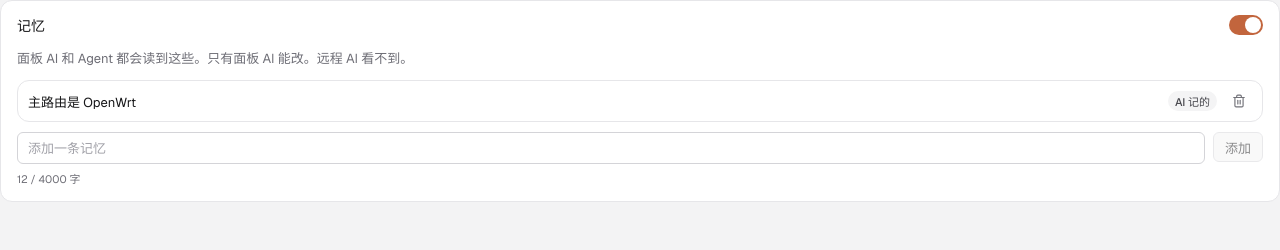
Test: 记忆卡片（B61） › shows the server's message when the limit is reached
Type "再加一条" into the field labelled "添加一条记忆" at (611, 148), box [17,132,1205,164]
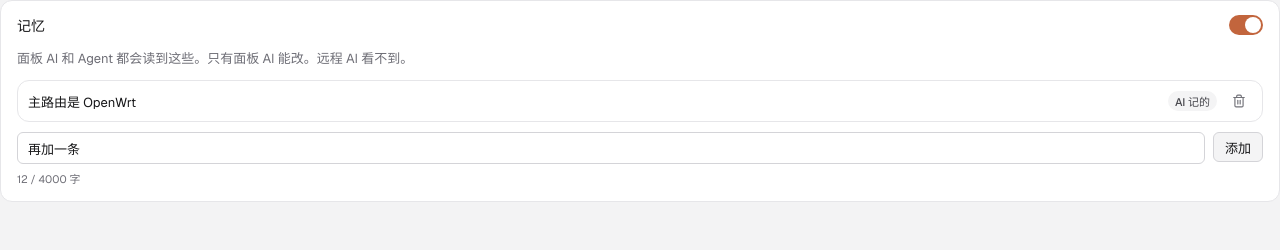
Click the button "添加" at (1238, 147), box [1213,132,1263,162]
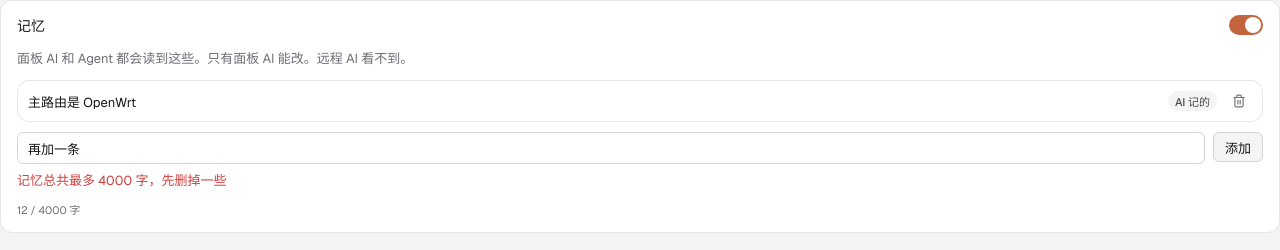
Check: the text "记忆总共最多 4000 字，先删掉一些" is shown, box [17,172,226,189]
